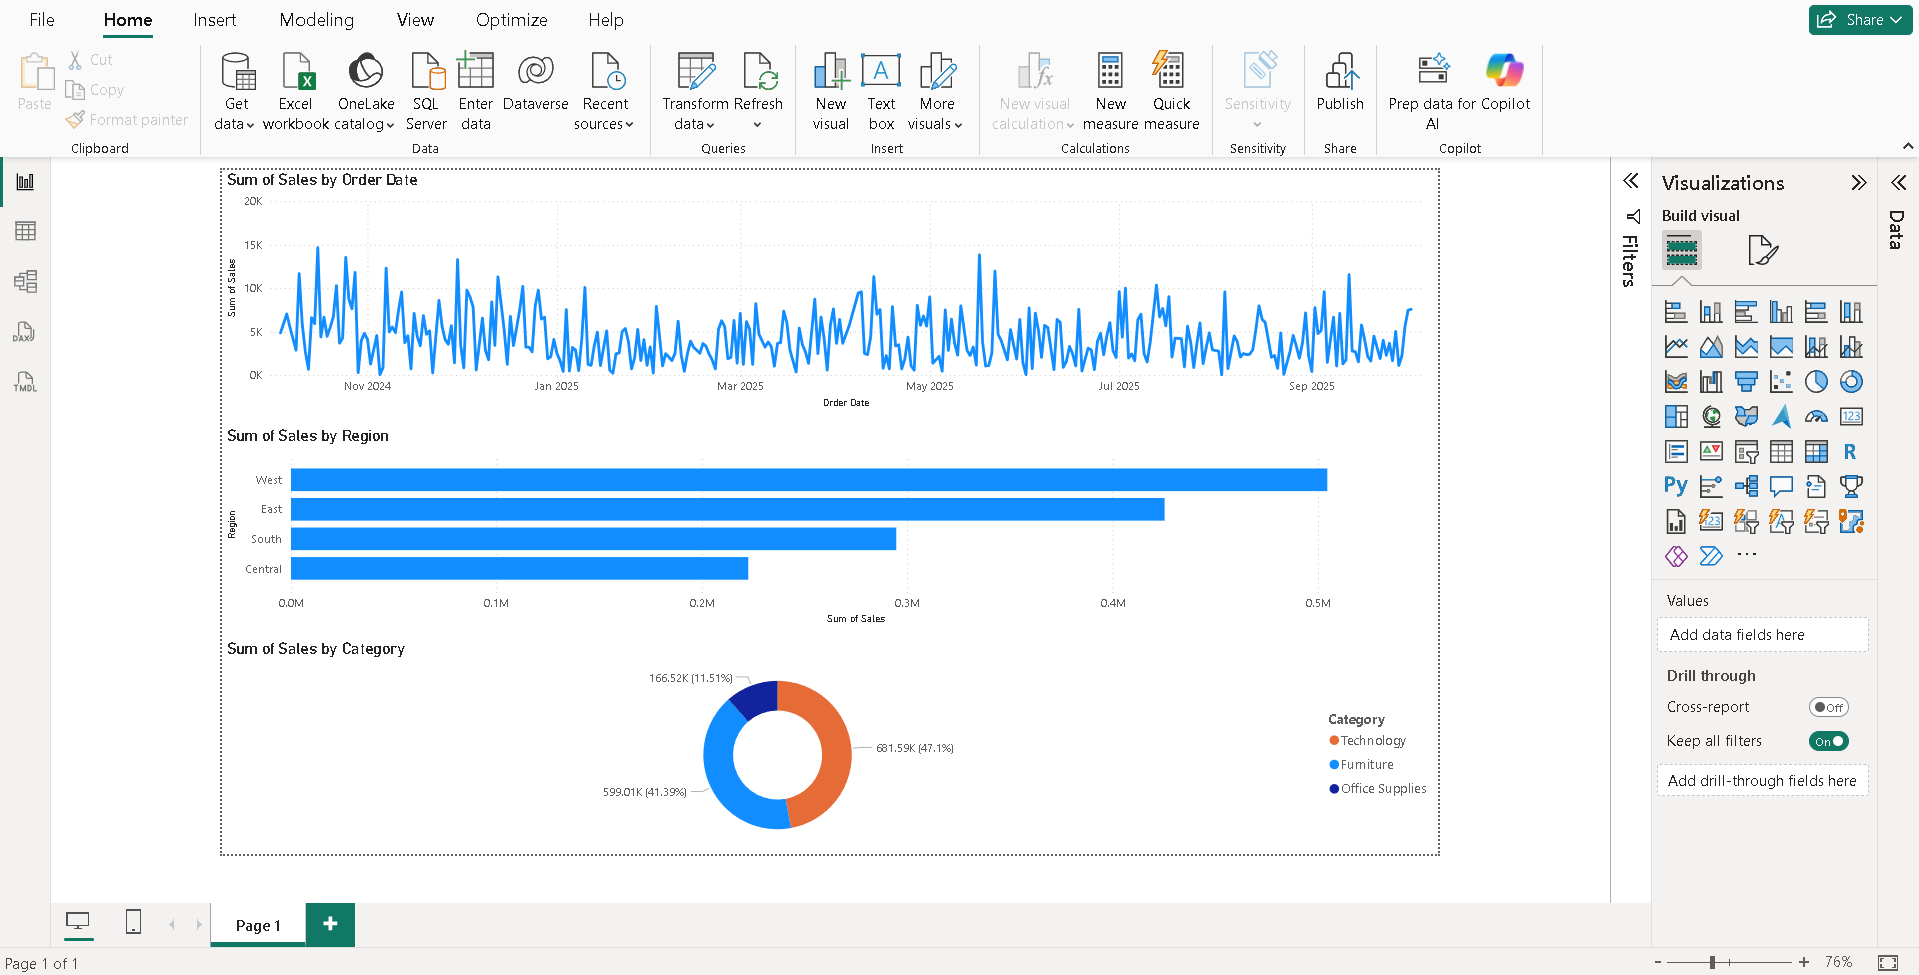

The page's visual inventory and layout, read from the dashboard file:
{"tool":"powerbi","page":{"name":"Page 1","canvas":[1280,720],"ordinal":0},"visuals":[{"type":"lineChart","fields":{"Category":["Superstore_Sales.Order Date"],"Y":["Sum(Superstore_Sales.Sales)"]},"box":[0,0,1280,256],"z":0},{"type":"barChart","fields":{"Y":["Sum(Superstore_Sales.Sales)"],"Category":["Superstore_Sales.Region"]},"box":[0,270,1280,214],"z":1},{"type":"donutChart","fields":{"Category":["Superstore_Sales.Category"],"Y":["Sum(Superstore_Sales.Sales)"]},"box":[0,494,1280,226],"z":2}]}

Visuals, with their boxes on the page's 1280x720 design canvas (x1, y1, x2, y2). These are canvas units, not pixel positions in the 1919x975 screenshot, which may show the page scaled, cropped or inside an application window:
lineChart - Superstore_Sales.Order Date x Sum(Superstore_Sales.Sales): [0,0,1280,256]
barChart - Sum(Superstore_Sales.Sales) x Superstore_Sales.Region: [0,270,1280,484]
donutChart - Superstore_Sales.Category x Sum(Superstore_Sales.Sales): [0,494,1280,720]
